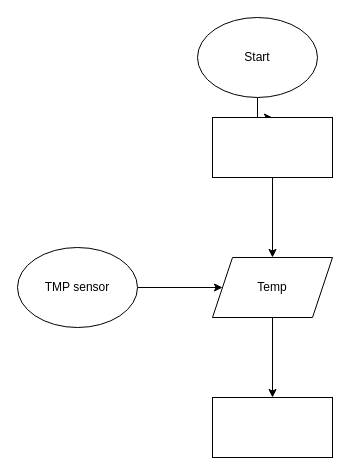
Some shapes in this 350 by 475 pixel diagram are drawn without their labels. Here are the shapes that lost their labels. From the top down, the box of each, then its label:
(212, 116, 332, 178): Initialize Pin 2-5 output
(212, 396, 332, 458): Convert sensor value to voltage
